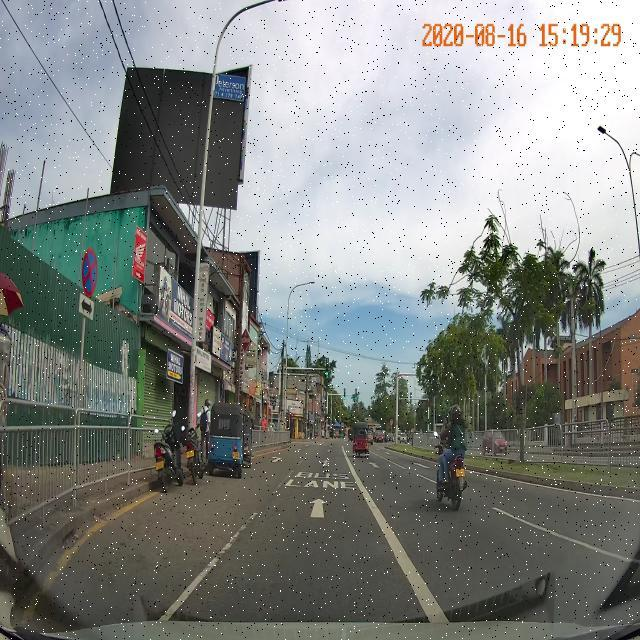forward: (218, 486, 406, 540)
